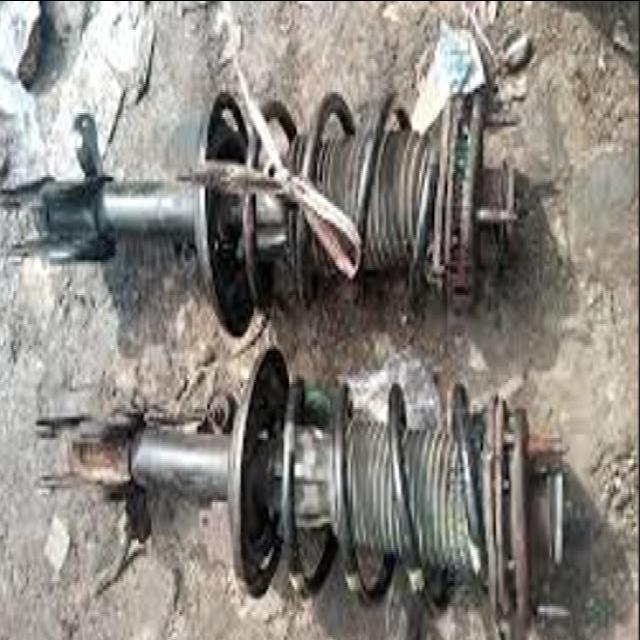shock absorber: (34, 344, 562, 631), (1, 88, 524, 339)
